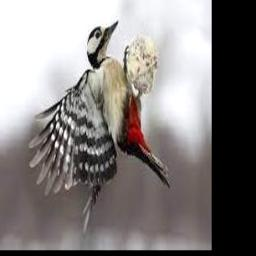Woodpecker: (28, 21, 171, 231)
